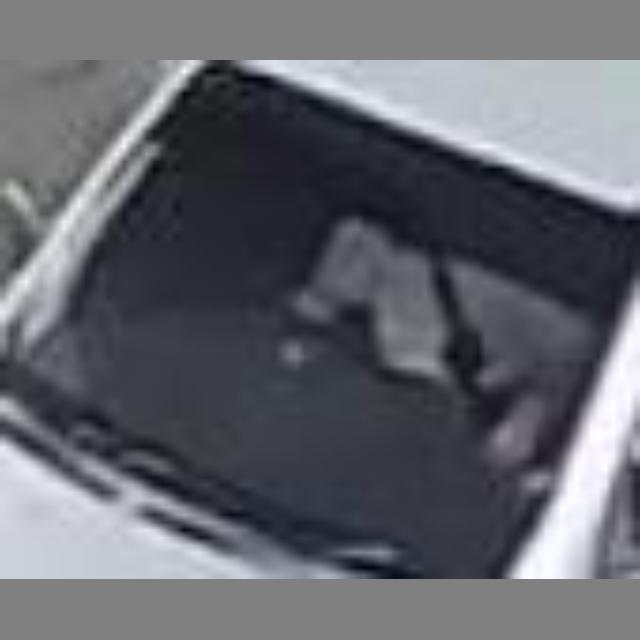pakai: (294, 203, 542, 429)
